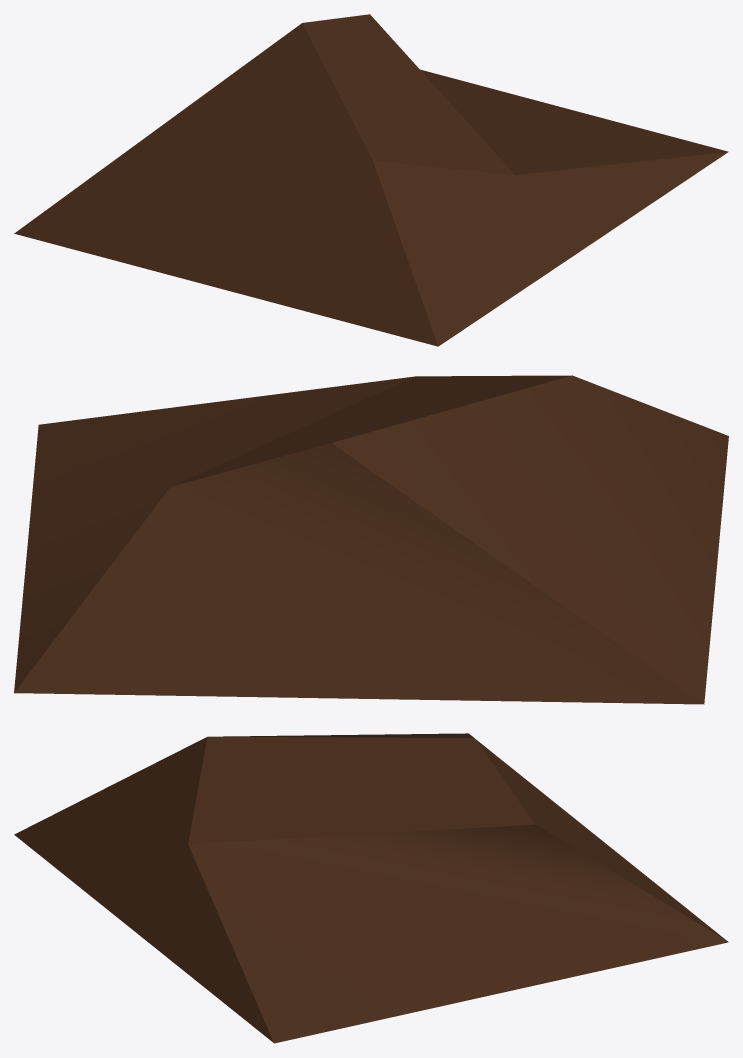
The model's file is ShardBase02.fbx.
3 renders of one model, top to bottom at view 1: azimuth 30°, elevation 25°; view 2: azimuth 150°, elevation 25°; view 3: azimuth 270°, elevation 25°, orthographic. The views are drawn at different scales.
Parts seen in each view (by area): view 1: polySurface51; view 2: polySurface51; view 3: polySurface51.
Boxes of the visible parts, <box> form: polySurface51: <box>14,14,728,346</box>; polySurface51: <box>14,375,728,704</box>; polySurface51: <box>14,733,728,1043</box>.
Size of the model in its own units: 11.55 by 2.45 by 11.26.
